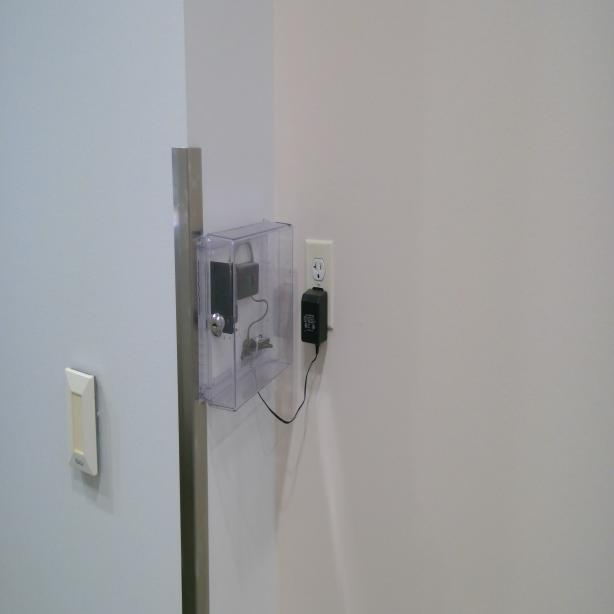typeb: (310, 254, 325, 281)
